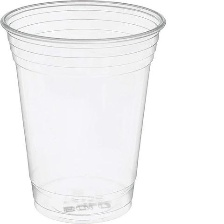glass: (0, 0, 167, 224)
